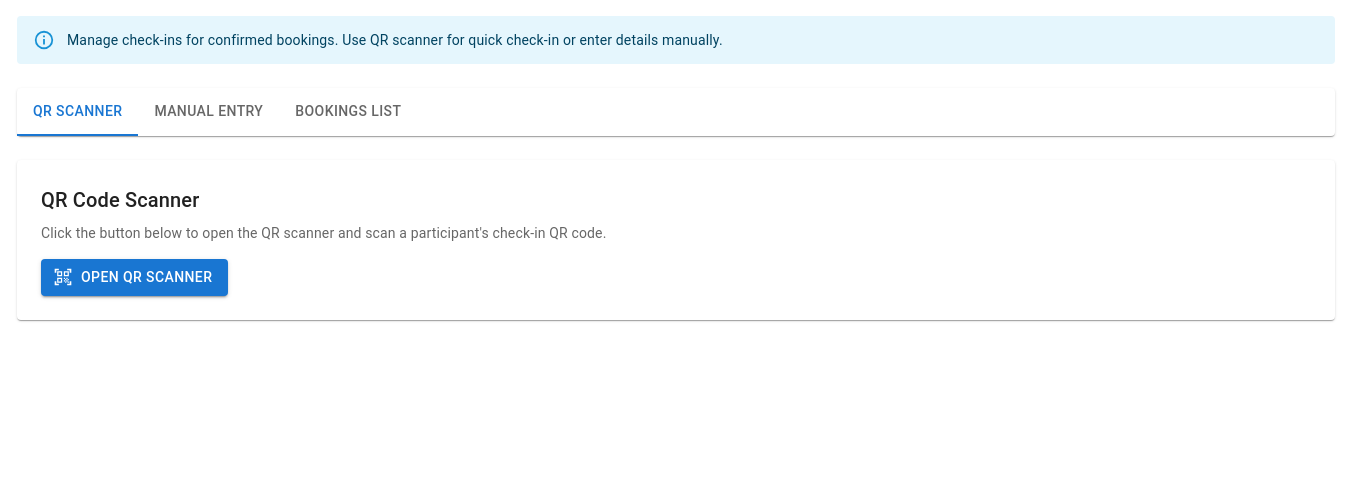
Test: AdminCheckInManagement › should pre-fill manual entry form when check-in button is clicked
Switch to bookings list tab
Click the tab "Bookings List" at [348, 112], box [279,88,417,136]
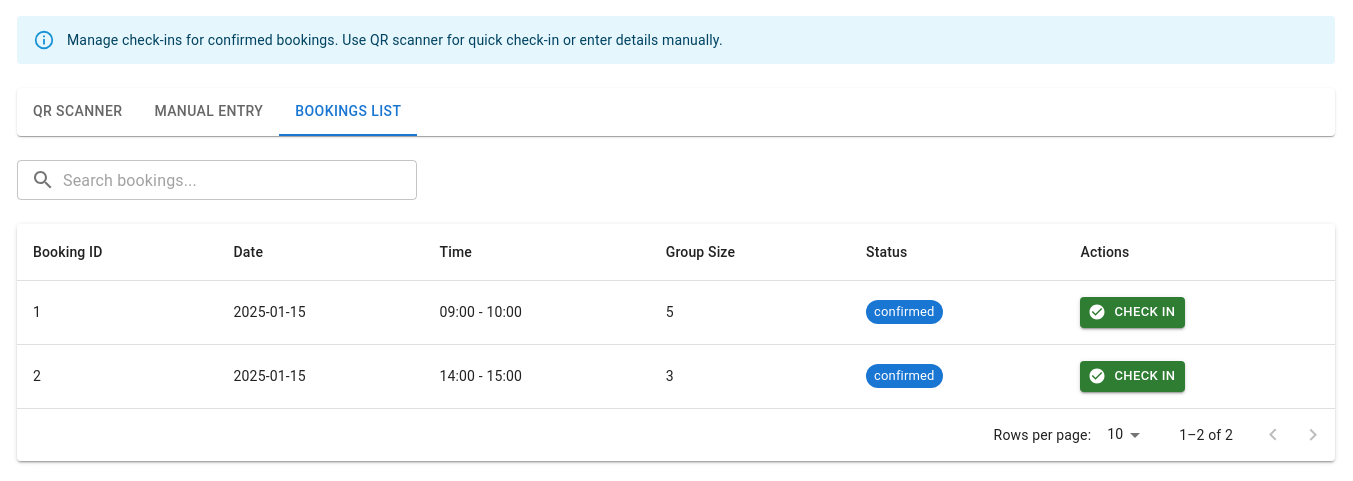
Click check-in button for first booking
Click the button "Check In" in the row of "09:00 - 10:00" at [1133, 312], box [1080,297,1185,328]
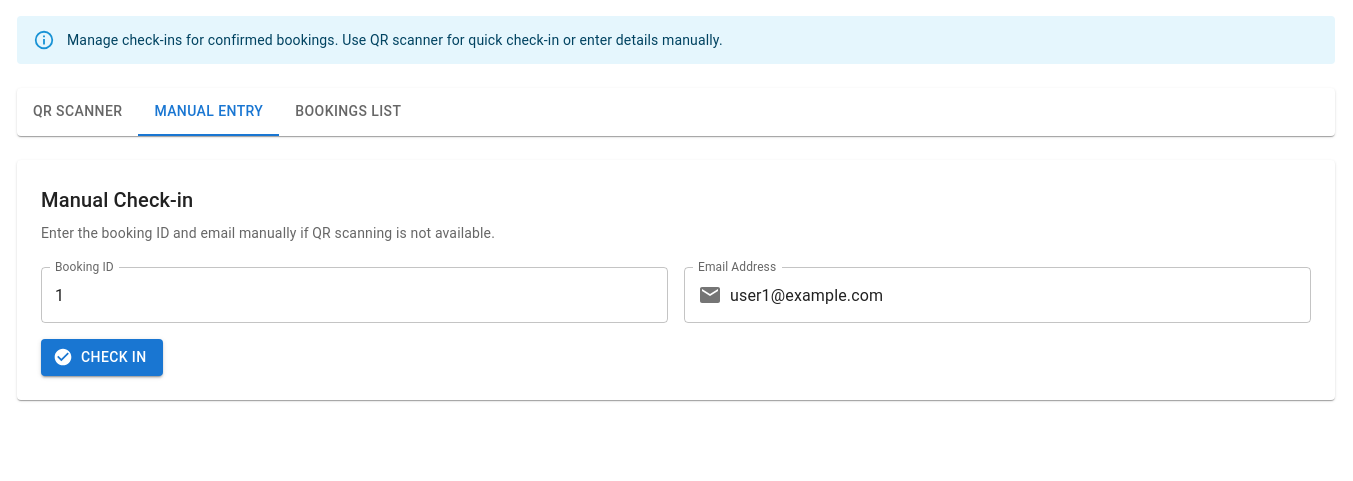
Result: the heading "Manual Check-in" is shown at [41,188,193,212]
Result: the field showing "1" is shown at [41,267,668,323]
Result: the field showing "user1@example.com" is shown at [730,267,1311,323]
